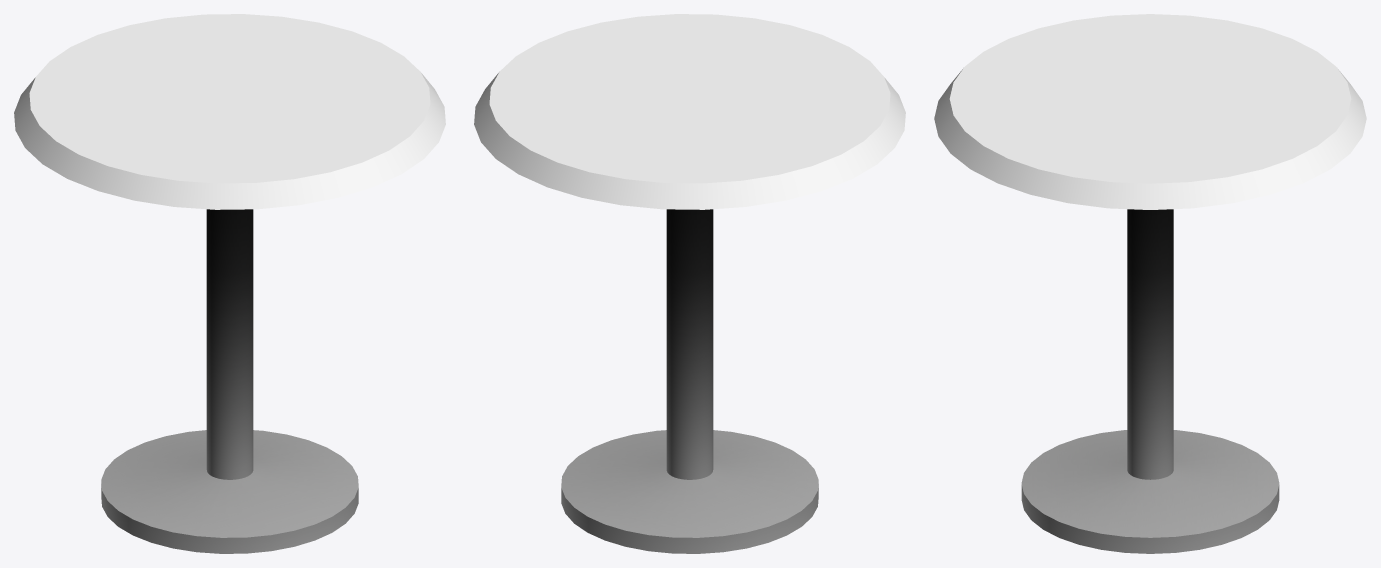
File: Table.fbx
3 views of the same model, side by side, from view 1: azimuth 30°, elevation 25°; view 2: azimuth 150°, elevation 25°; view 3: azimuth 270°, elevation 25° (orthographic).
Visible parts, largest first — view 1: Table; view 2: Table; view 3: Table.
Boxes of the visible parts, box(x1,y1,x2,y2) form: Table: box(14, 14, 445, 553); Table: box(474, 14, 905, 553); Table: box(934, 14, 1366, 553).
Bounding box in the file's own units: 0.7751 × 0.792 × 0.7751.
